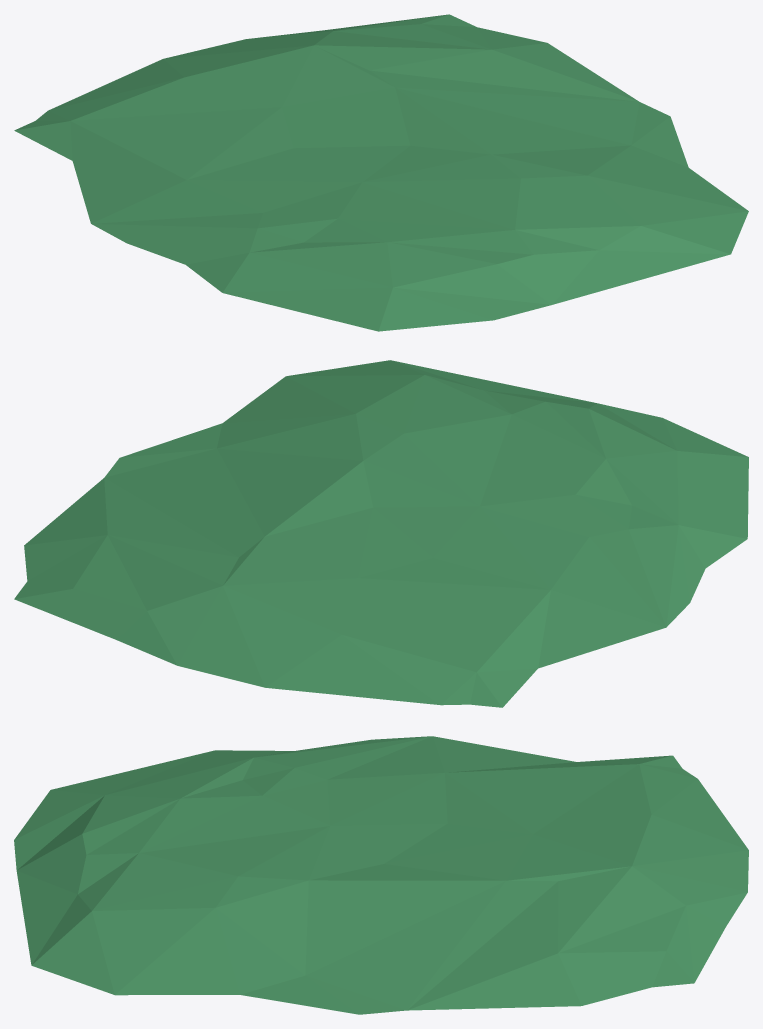
The model's file is GrassPatchLarge_01.glb.
3 views of the same model, one above another, from view 1: azimuth 30°, elevation 25°; view 2: azimuth 150°, elevation 25°; view 3: azimuth 270°, elevation 25° (orthographic). The views are drawn at different scales.
Parts seen in each view (by area): view 1: GrassPatchLarge_01; view 2: GrassPatchLarge_01; view 3: GrassPatchLarge_01.
Boxes of the visible parts, x1=… form: GrassPatchLarge_01: x1=14, y1=14, x2=748, y2=331; GrassPatchLarge_01: x1=14, y1=360, x2=748, y2=707; GrassPatchLarge_01: x1=14, y1=736, x2=748, y2=1014.
Size of what is drawn, in the model's own units: 5.06 by 0.2763 by 5.64.
1 material, 1 textured.
